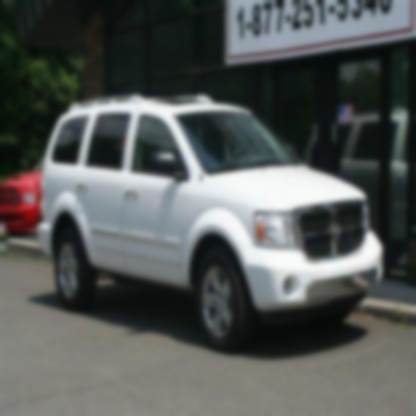Vehicle: (34, 88, 387, 353)
